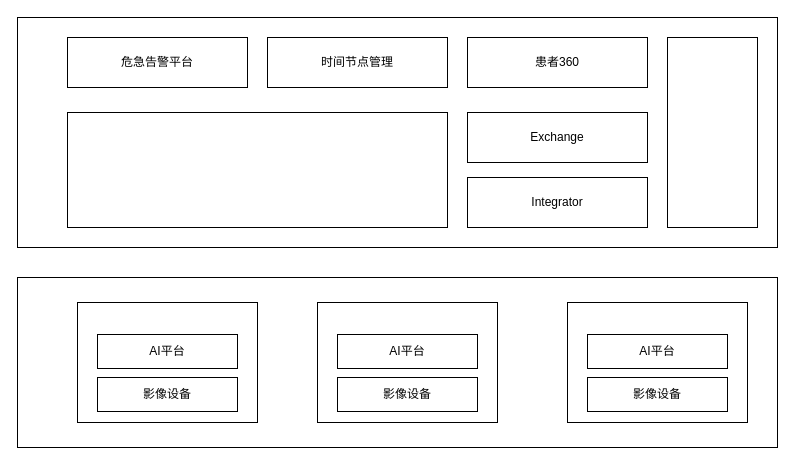
Some shapes in this 795 by 465 pixel diagram are drawn without their labels. The centre of each missing label's shape, as x and y in pixels:
"Cetus" goes at point (257, 170).
"应用管理平台" goes at point (712, 132).
